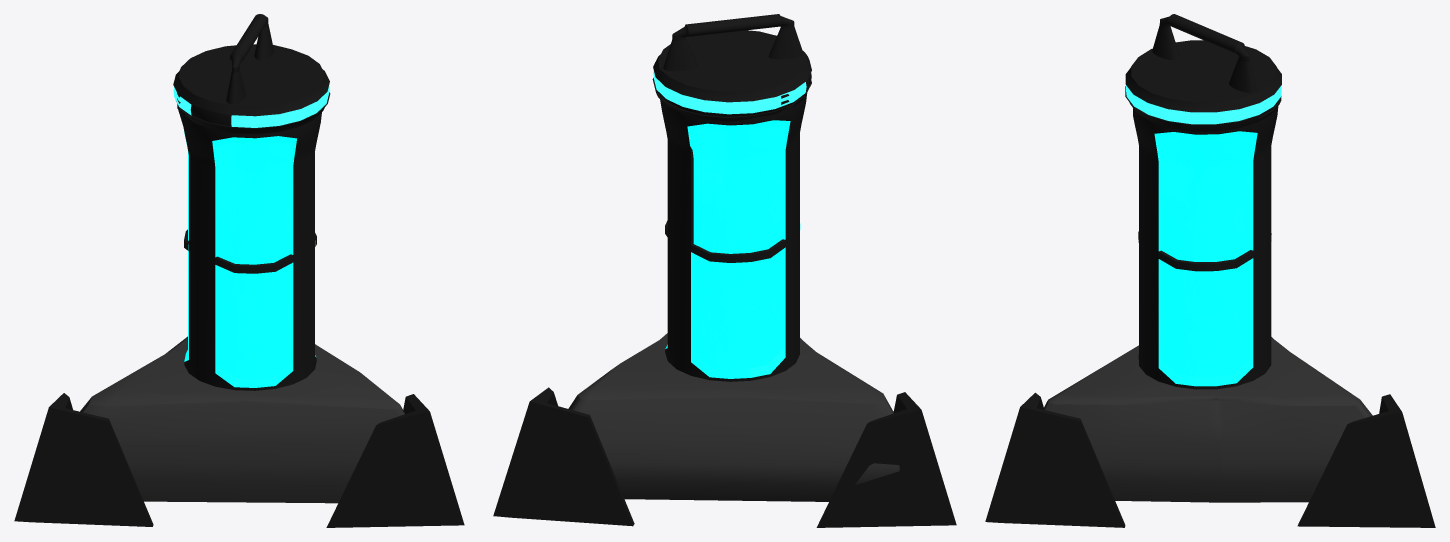
Rendered from Spike.glb.
The picture shows the model from 3 angles, left to right: view 1: azimuth 30°, elevation 25°; view 2: azimuth 150°, elevation 25°; view 3: azimuth 270°, elevation 25°; orthographic projection.
Visible parts, largest first — view 1: pCylinder1, pCube1, pCube2, pasted__pPyramid1_pasted__out1_0, pPyramid1; view 2: pCube1, pCylinder1, pCube2, pasted__pPyramid1, pasted__pPyramid1_pasted__out1_0; view 3: pCylinder1, pCube1, pCube2, pPyramid1, pasted__pPyramid1.
Boxes of the visible parts, x1=… form: pCylinder1: x1=177, y1=104, x2=321, y2=390; pCube1: x1=80, y1=336, x2=404, y2=503; pCube2: x1=173, y1=14, x2=330, y2=134; pasted__pPyramid1_pasted__out1_0: x1=14, y1=393, x2=153, y2=526; pPyramid1: x1=326, y1=394, x2=464, y2=527; pCube1: x1=568, y1=333, x2=899, y2=501; pCylinder1: x1=660, y1=93, x2=807, y2=381; pCube2: x1=652, y1=14, x2=811, y2=121; pasted__pPyramid1: x1=493, y1=387, x2=634, y2=526; pasted__pPyramid1_pasted__out1_0: x1=816, y1=392, x2=956, y2=527; pCylinder1: x1=1133, y1=106, x2=1278, y2=389; pCube1: x1=1043, y1=337, x2=1372, y2=502; pCube2: x1=1125, y1=14, x2=1281, y2=131; pPyramid1: x1=985, y1=392, x2=1125, y2=527; pasted__pPyramid1: x1=1297, y1=394, x2=1435, y2=527.
Size of the model in its own units: 2.68 by 3.25 by 2.97.
7 materials, 2 textured.
